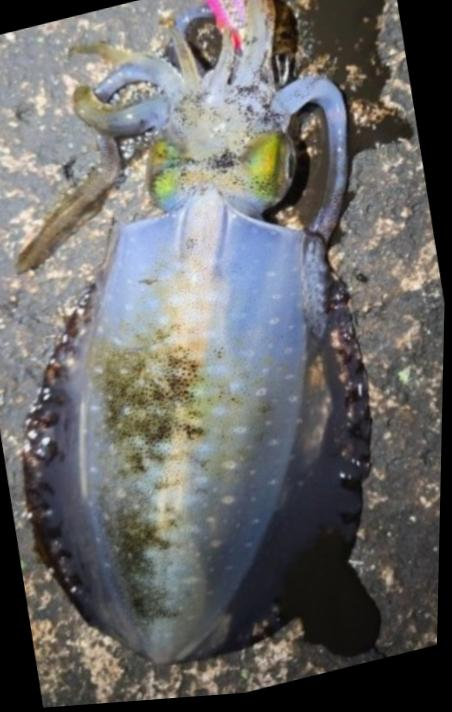Cephalopod: (19, 0, 372, 666)
